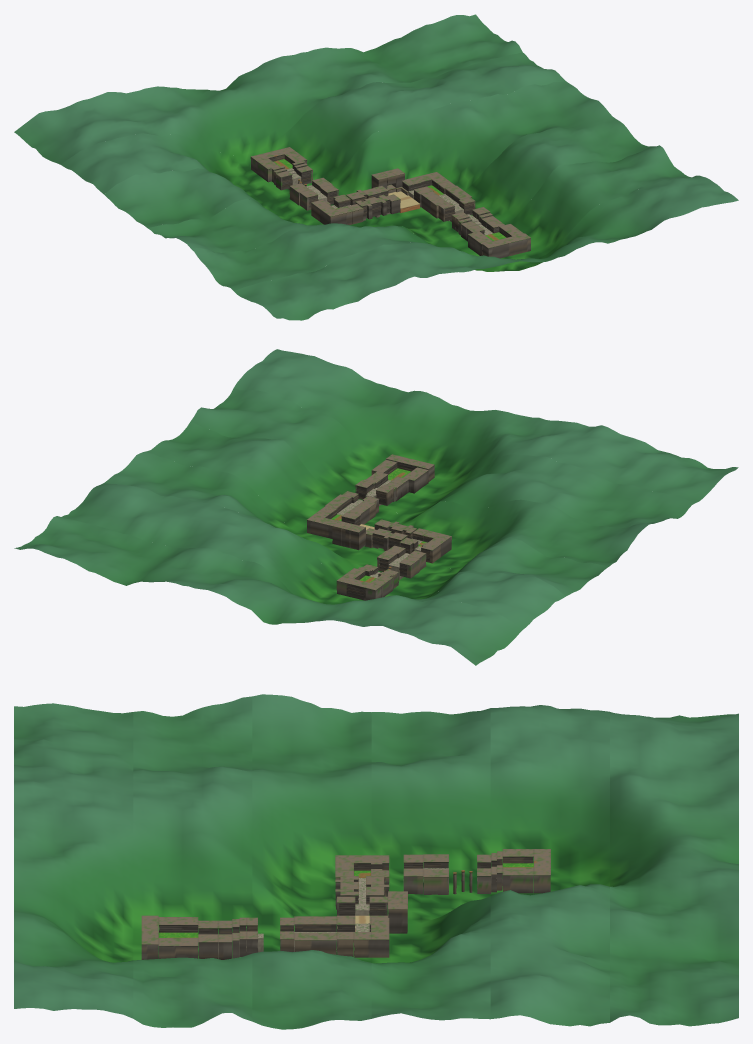
File: mossy_ruins_terrain.glb
The picture shows the model from 3 angles, top to bottom: view 1: azimuth 30°, elevation 25°; view 2: azimuth 150°, elevation 25°; view 3: azimuth 270°, elevation 25°; orthographic projection. The views are drawn at different scales.
Parts seen in each view (by area): view 1: backdrop_5, backdrop_3, backdrop_4, backdrop_0, backdrop_1, backdrop_2, terrain_E, terrain_A, terrain_G, terrain_I, terrain_F, terrain_B (+3 smaller); view 2: backdrop_0, backdrop_1, backdrop_5, backdrop_2, backdrop_4, backdrop_3, terrain_E, terrain_I, terrain_A, terrain_B, terrain_G, terrain_F (+2 smaller); view 3: backdrop_5, backdrop_0, backdrop_4, backdrop_1, backdrop_2, backdrop_3, terrain_E, terrain_I, terrain_A, terrain_B, terrain_D, terrain_H (+3 smaller).
Part boxes in pixels (bbox=[...]): backdrop_5: bbox=[14, 14, 522, 164]; backdrop_3: bbox=[104, 81, 608, 227]; backdrop_4: bbox=[61, 52, 565, 199]; backdrop_0: bbox=[234, 175, 738, 320]; backdrop_1: bbox=[191, 145, 691, 290]; backdrop_2: bbox=[147, 113, 651, 252]; terrain_E: bbox=[371, 168, 449, 214]; terrain_A: bbox=[468, 224, 530, 258]; terrain_G: bbox=[300, 184, 352, 224]; terrain_I: bbox=[250, 147, 307, 185]; terrain_F: bbox=[333, 188, 390, 224]; terrain_B: bbox=[451, 207, 504, 241]; backdrop_0: bbox=[234, 349, 738, 502]; backdrop_1: bbox=[190, 388, 695, 527]; backdrop_5: bbox=[14, 516, 522, 665]; backdrop_2: bbox=[147, 421, 651, 569]; backdrop_4: bbox=[61, 483, 565, 629]; backdrop_3: bbox=[104, 451, 608, 599]; terrain_E: bbox=[307, 510, 389, 550]; terrain_I: bbox=[336, 567, 393, 600]; terrain_A: bbox=[371, 454, 434, 493]; terrain_B: bbox=[355, 471, 408, 505]; terrain_G: bbox=[387, 531, 451, 570]; terrain_F: bbox=[373, 521, 429, 553]; backdrop_5: bbox=[610, 712, 738, 1026]; backdrop_0: bbox=[14, 703, 133, 1018]; backdrop_4: bbox=[490, 705, 609, 1026]; backdrop_1: bbox=[133, 696, 252, 1027]; backdrop_2: bbox=[252, 694, 371, 1029]; backdrop_3: bbox=[371, 708, 490, 1020]; terrain_E: bbox=[337, 891, 407, 957]; terrain_I: bbox=[491, 849, 550, 893]; terrain_A: bbox=[141, 915, 198, 959]; terrain_B: bbox=[198, 917, 257, 959]; terrain_D: bbox=[294, 916, 353, 956]; terrain_H: bbox=[423, 854, 491, 894].
Bounding box in the file's own units: 518 × 62.76 × 511.
